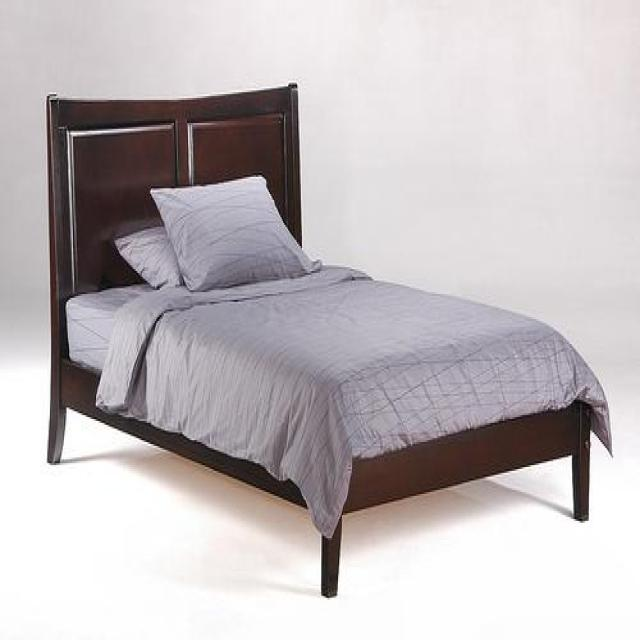bed: (38, 77, 615, 603)
